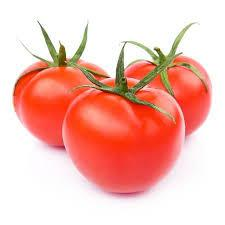tomato: (65, 80, 182, 197), (11, 59, 109, 151), (123, 55, 212, 140)
